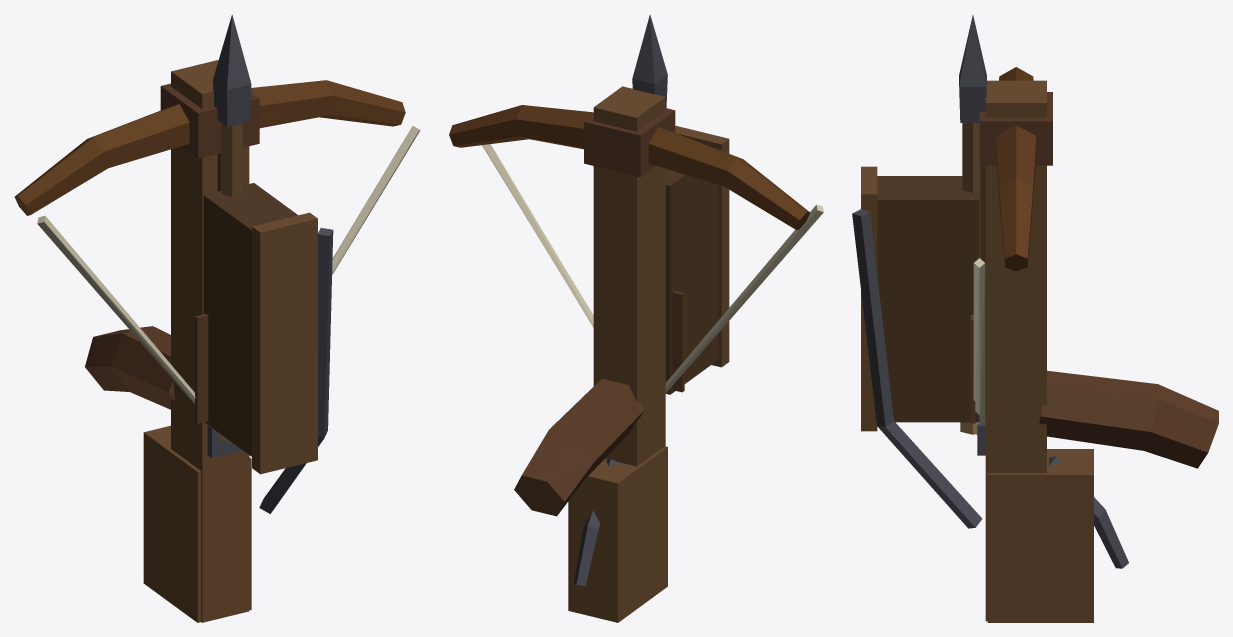
Rendered from weapon_crossbow_repeating.glb.
The picture shows the model from 3 angles, left to right: view 1: azimuth 30°, elevation 25°; view 2: azimuth 150°, elevation 25°; view 3: azimuth 270°, elevation 25°; orthographic projection. The views are drawn at different scales.
Visible parts, largest first — view 1: weapon_crossbow_repeating, weapon_crossbow_repeating_bolt, weapon_crossbow_repeating_string; view 2: weapon_crossbow_repeating, weapon_crossbow_repeating_string, weapon_crossbow_repeating_bolt; view 3: weapon_crossbow_repeating, weapon_crossbow_repeating_bolt, weapon_crossbow_repeating_string.
Part boxes in pixels (box(x1,y1,x2,y2)): weapon_crossbow_repeating: box(14, 60, 405, 622); weapon_crossbow_repeating_bolt: box(195, 14, 251, 442); weapon_crossbow_repeating_string: box(37, 126, 420, 403); weapon_crossbow_repeating: box(449, 86, 810, 622); weapon_crossbow_repeating_string: box(482, 144, 823, 392); weapon_crossbow_repeating_bolt: box(632, 14, 684, 392); weapon_crossbow_repeating: box(852, 67, 1218, 622); weapon_crossbow_repeating_bolt: box(959, 15, 986, 434); weapon_crossbow_repeating_string: box(973, 258, 985, 434).
Size of the model in its own units: 0.5327 by 0.805 by 0.4489.
